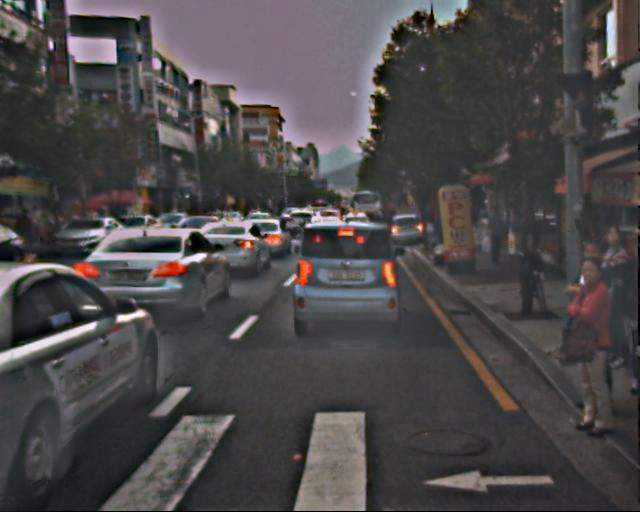person: (552, 261, 625, 438), (561, 240, 630, 408), (582, 222, 640, 389), (484, 206, 509, 266)
